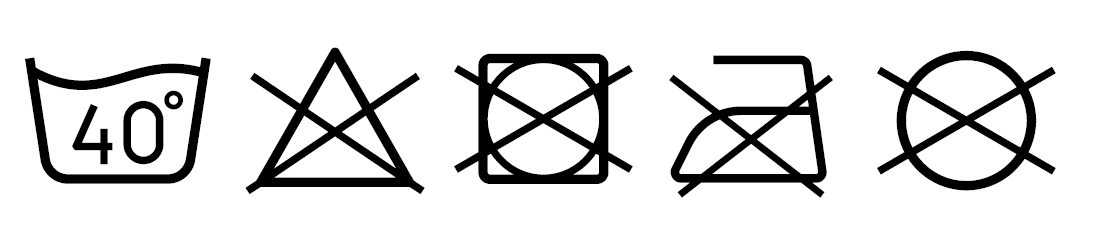do_not_bleach: (236, 38, 438, 198)
do_not_dry_clean: (867, 38, 1068, 198)
do_not_iron: (656, 41, 847, 212)
